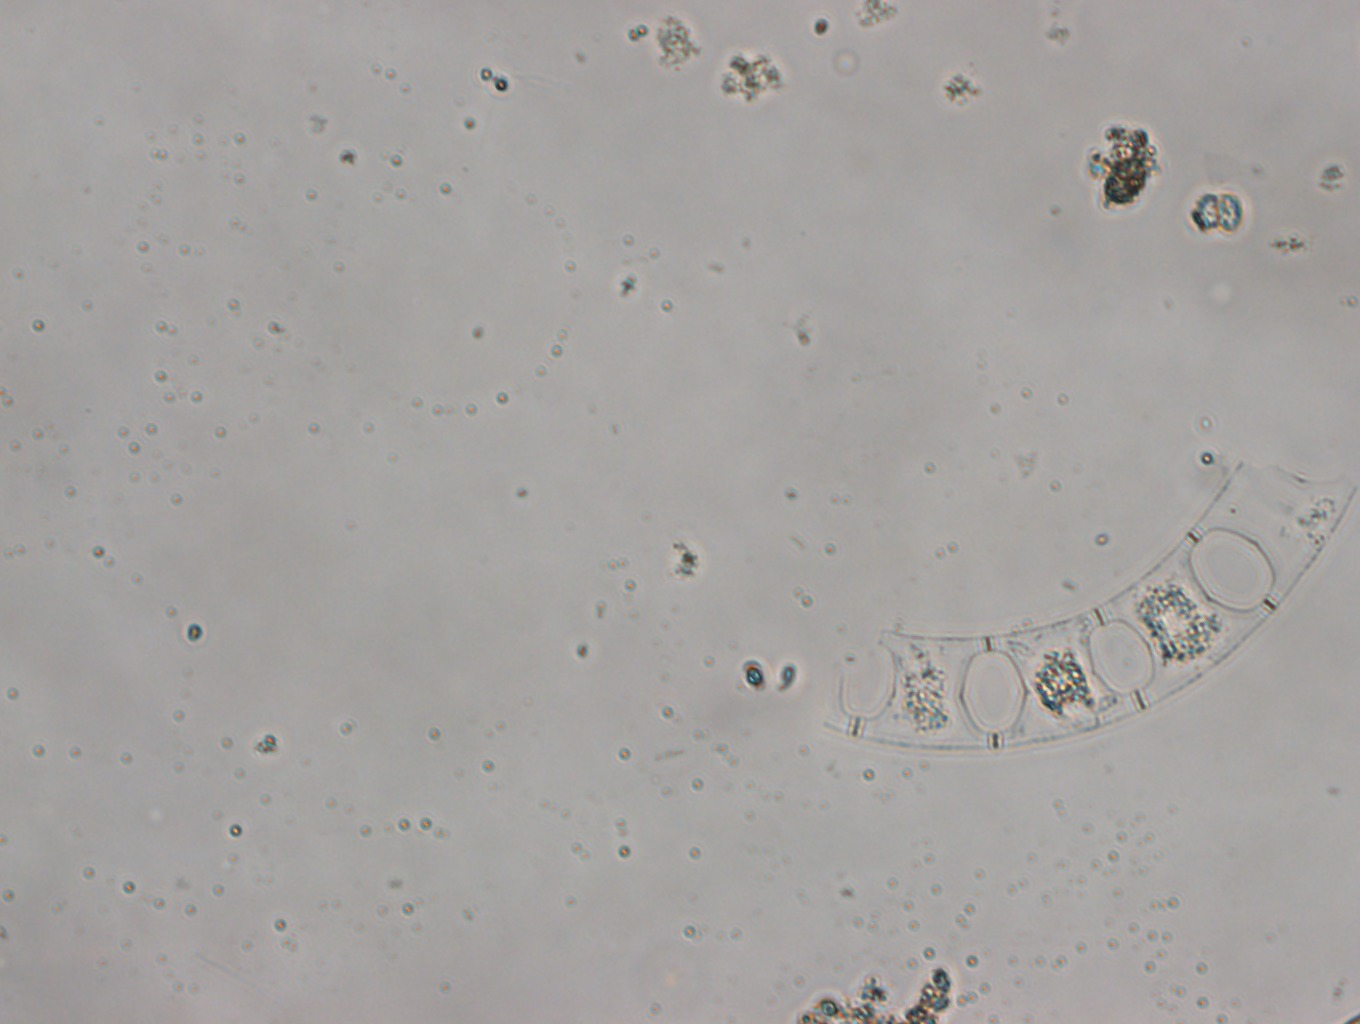eucampia: (821, 460, 1355, 748)
